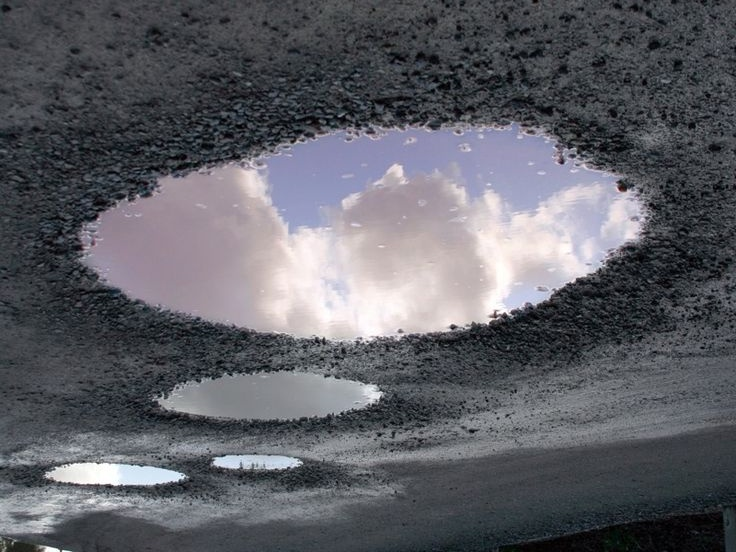pothole: (50, 125, 679, 344), (154, 371, 386, 424), (34, 459, 198, 491), (210, 451, 311, 478)
